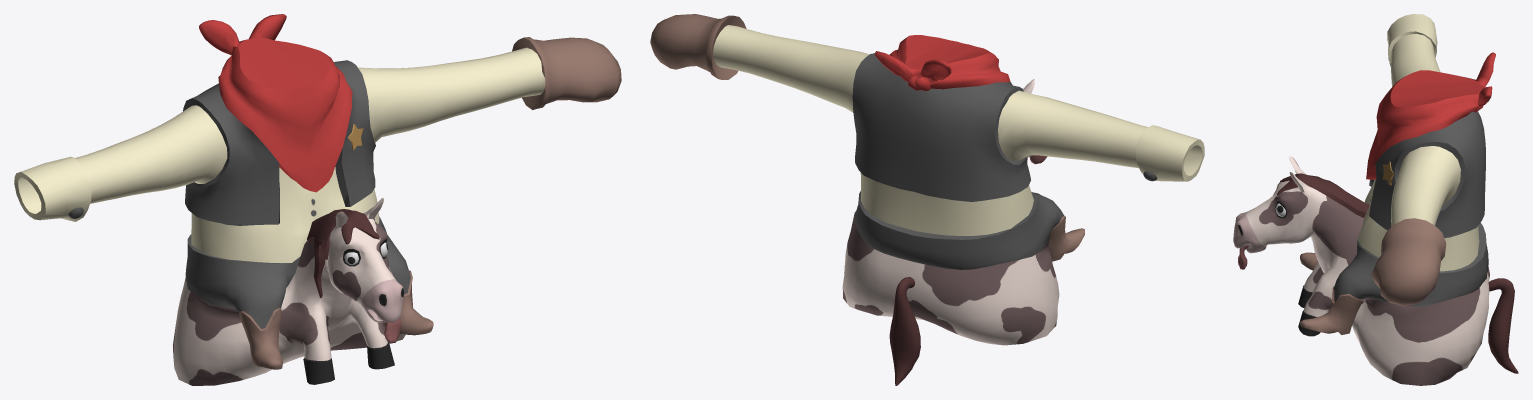
File: 25牛仔套装.fbx
3 views of the same model, side by side, from view 1: azimuth 30°, elevation 25°; view 2: azimuth 150°, elevation 25°; view 3: azimuth 270°, elevation 25° (orthographic). The views are drawn at different scales.
Visible parts, largest first — view 1: 25牛仔套装; view 2: 25牛仔套装; view 3: 25牛仔套装.
Part boxes in pixels (<box>): 25牛仔套装: <box>14,14,621,385</box>; 25牛仔套装: <box>650,14,1204,385</box>; 25牛仔套装: <box>1233,14,1518,385</box>.
Size of the model in its own units: 1.81 by 1.03 by 0.8764.
